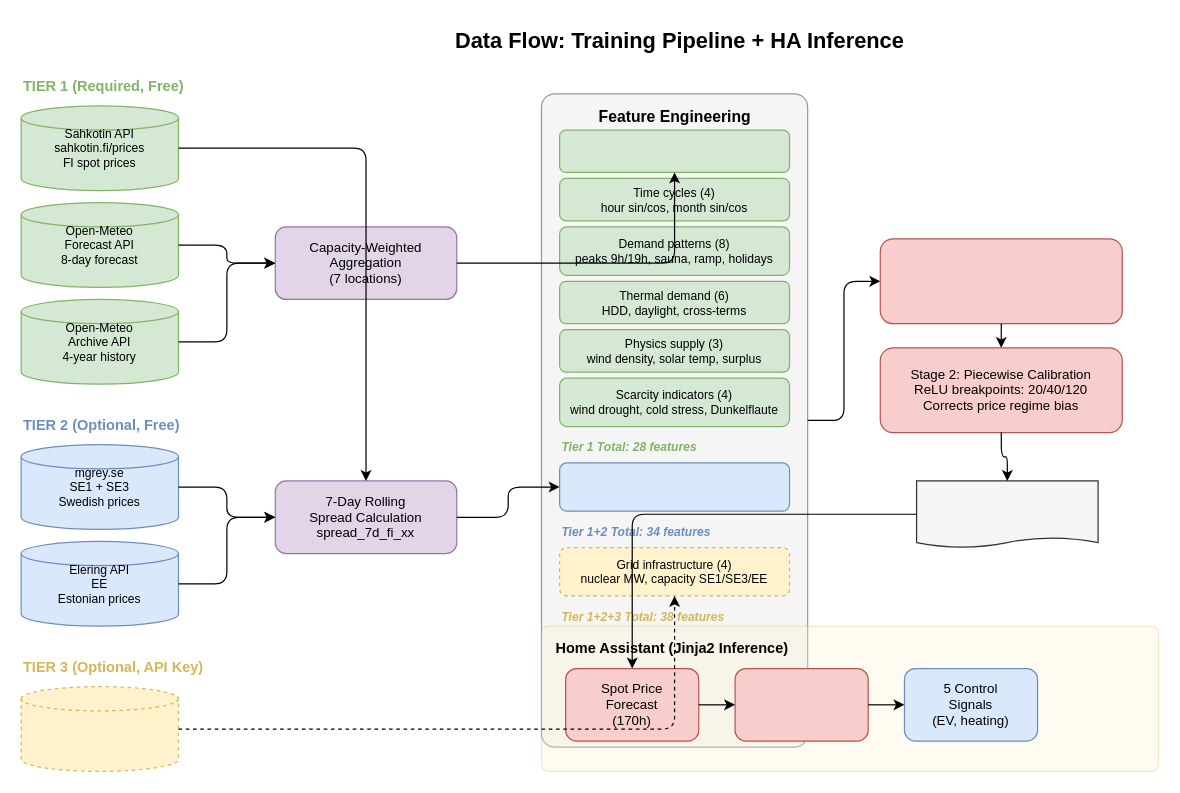
This 1180x793 diagram has some shape labels left out. Each missing label, with the centre of its shape:
Consumer Price (VAT+tariff): (801,704)
Cross-border trade (6) import/export potential SE1/SE3/EE: (674,486)
Fingrid API Nuclear #188 Capacity #24/27/115: (99,728)
model_coefs.json: (1006,514)
Stage 1: Ridge Regression beta = (X'WX + aI)^-1 X'Wy Time-decay weighted: (1000,281)
Supply (3) wind, solar, temp: (674,150)
